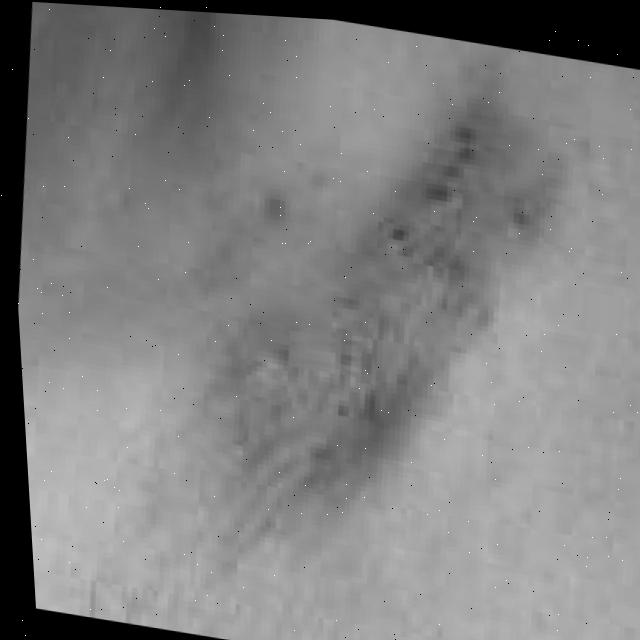Shingles: (230, 100, 546, 507)
